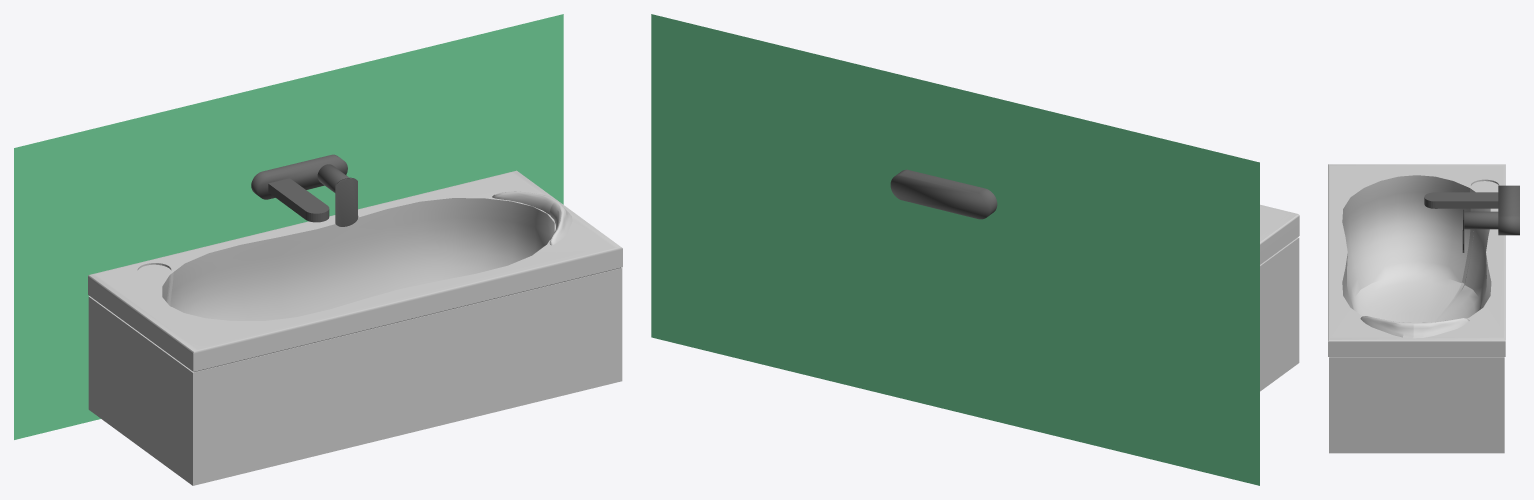
File: bathtub.gltf
The picture shows the model from 3 angles, left to right: view 1: azimuth 30°, elevation 25°; view 2: azimuth 150°, elevation 25°; view 3: azimuth 270°, elevation 25°; orthographic projection. The views are drawn at different scales.
Parts seen in each view (by area): view 1: Cube, Plane, Cylinder.004, Cylinder.005, Sphere, Cylinder.007; view 2: Plane, Cube, Cylinder.004; view 3: Cube, Sphere, Cylinder.005, Cylinder.004, Cylinder.006.
Part boxes in pixels (x1,y1,x2,y2): Cube: [88, 170, 622, 485]; Plane: [14, 14, 563, 439]; Cylinder.004: [251, 154, 347, 199]; Cylinder.005: [268, 178, 329, 222]; Sphere: [492, 191, 572, 245]; Cylinder.007: [335, 177, 358, 226]; Plane: [651, 14, 1259, 485]; Cube: [1260, 204, 1299, 391]; Cylinder.004: [890, 169, 997, 219]; Cube: [1328, 164, 1505, 453]; Sphere: [1360, 316, 1469, 338]; Cylinder.005: [1424, 192, 1498, 208]; Cylinder.004: [1498, 185, 1519, 235]; Cylinder.006: [1464, 211, 1498, 229].
Bounding box in the file's own units: 17.44 × 8.85 × 6.26.
